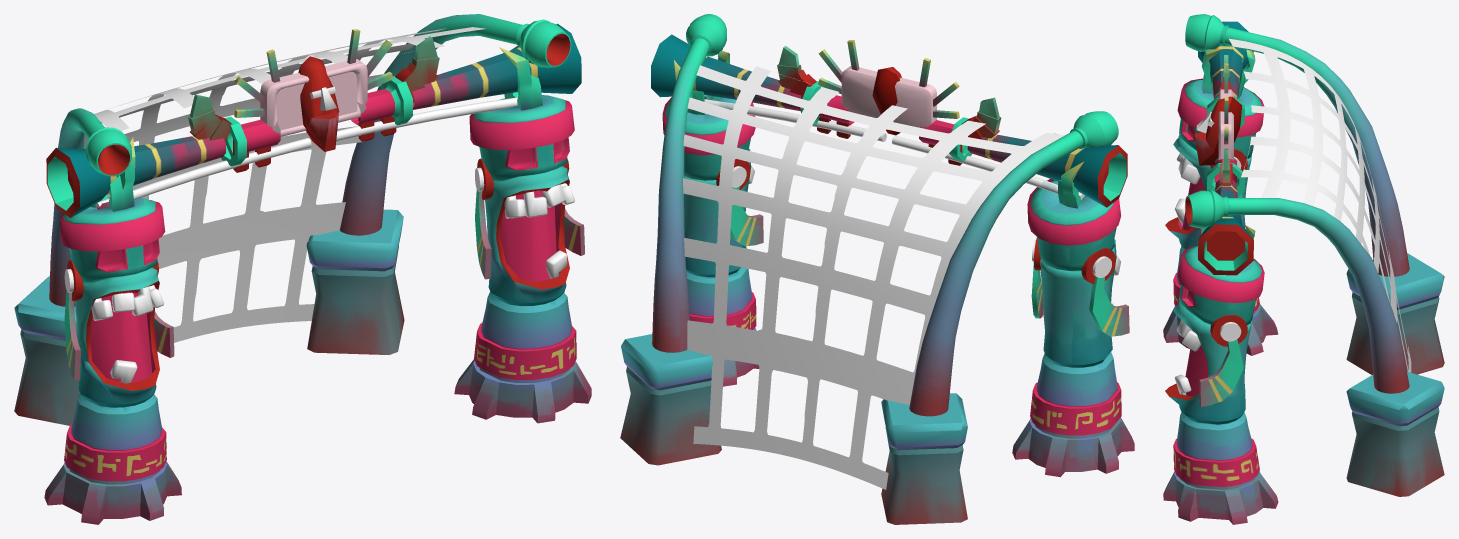
Rendered from SM_BUT 1.FBX.
The picture shows the model from 3 angles, left to right: view 1: azimuth 30°, elevation 25°; view 2: azimuth 150°, elevation 25°; view 3: azimuth 270°, elevation 25°; orthographic projection. The views are drawn at different scales.
Parts seen in each view (by area): view 1: Object001; view 2: Object001; view 3: Object001.
Boxes of the visible parts, left/top/right/bottom form: Object001: left=14, top=14, right=591, bottom=524; Object001: left=620, top=14, right=1134, bottom=524; Object001: left=1163, top=14, right=1444, bottom=524.
Size of the model in its own units: 987 by 725 by 547.
